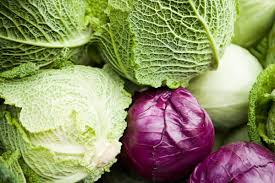cabbage: (1, 74, 130, 183), (101, 1, 238, 88), (126, 96, 213, 176), (195, 37, 262, 134)
